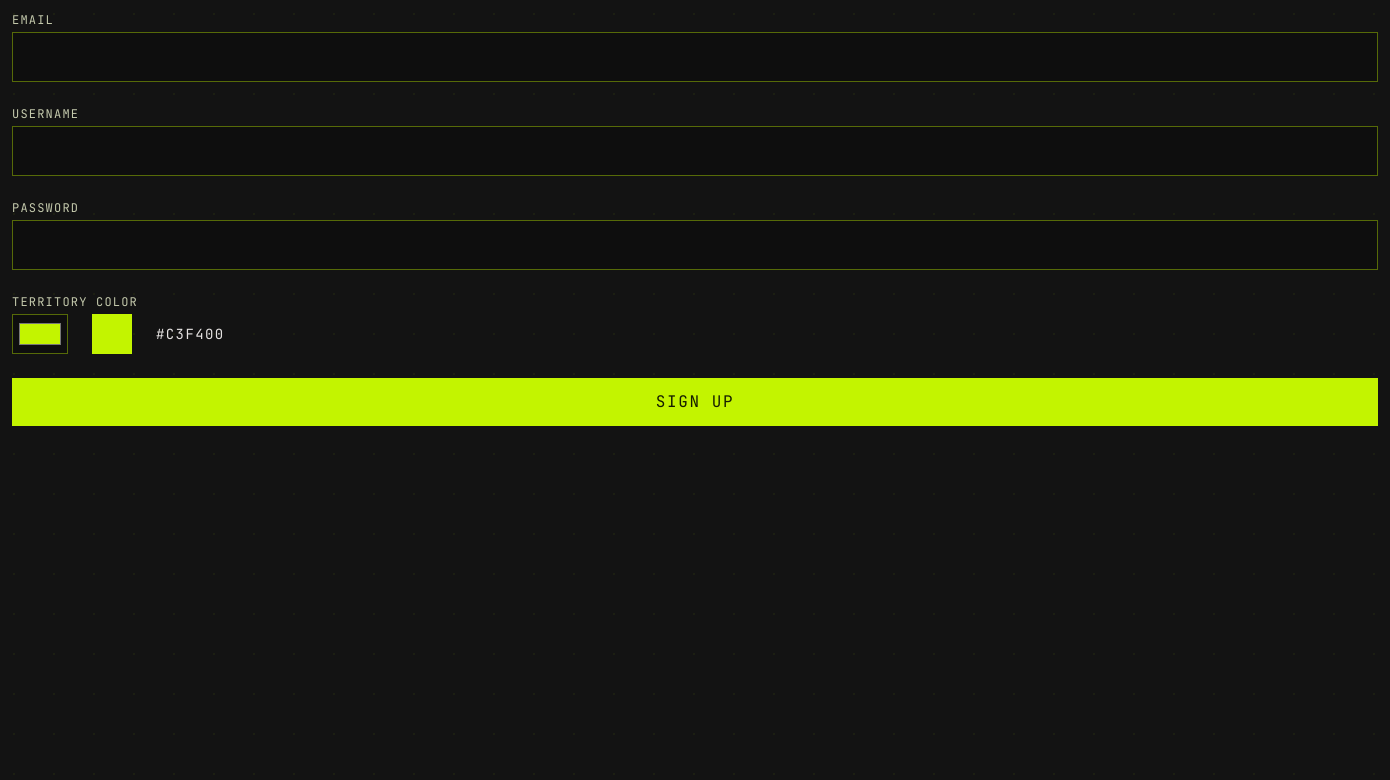
Test: <SignUpForm> › surfaces error on signUp rejection
The width and height of the screenshot is (1390, 780).
Type "dup@example.com" into the field labelled "Email".
click(695, 57); type("dup@example.com")  # box [12,32,1378,82]
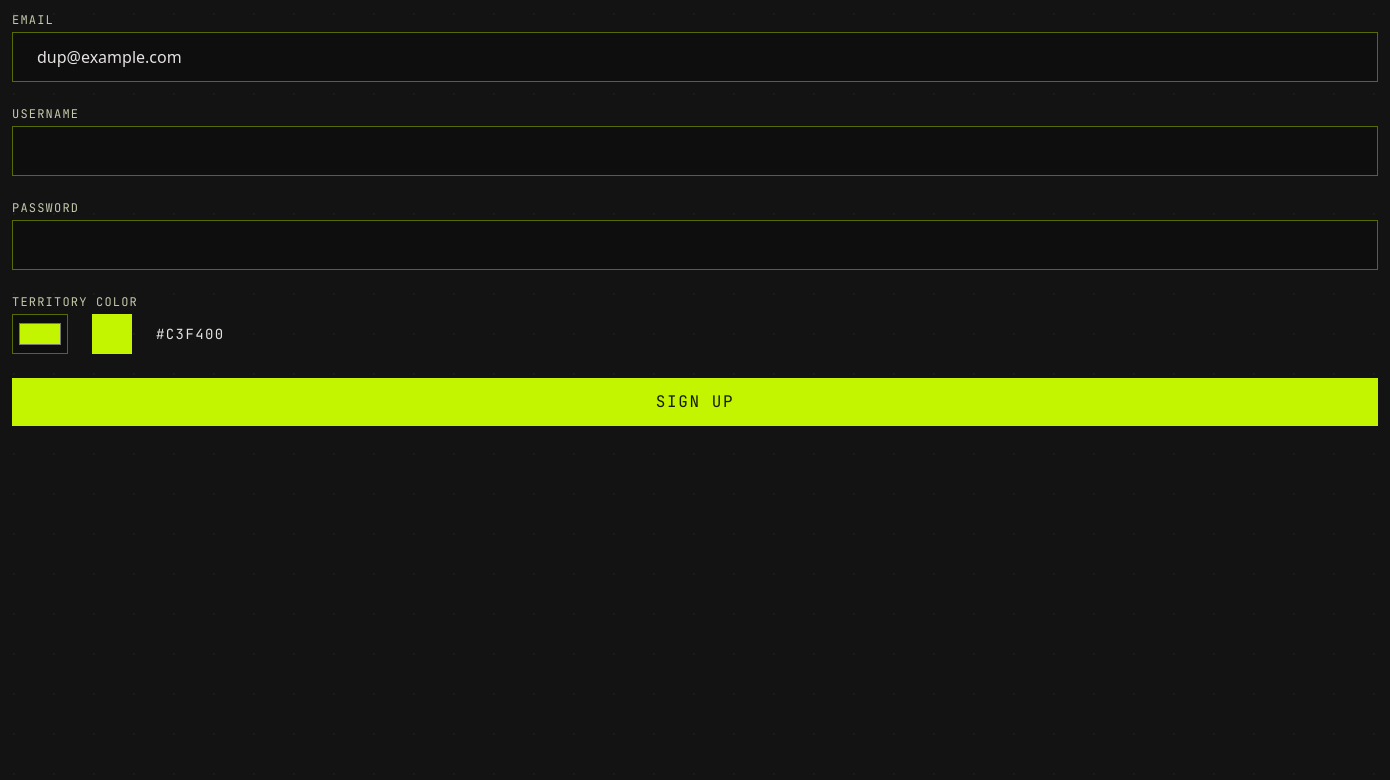
Type "dup_user" into the field labelled "Username".
click(695, 151); type("dup_user")  # box [12,126,1378,176]
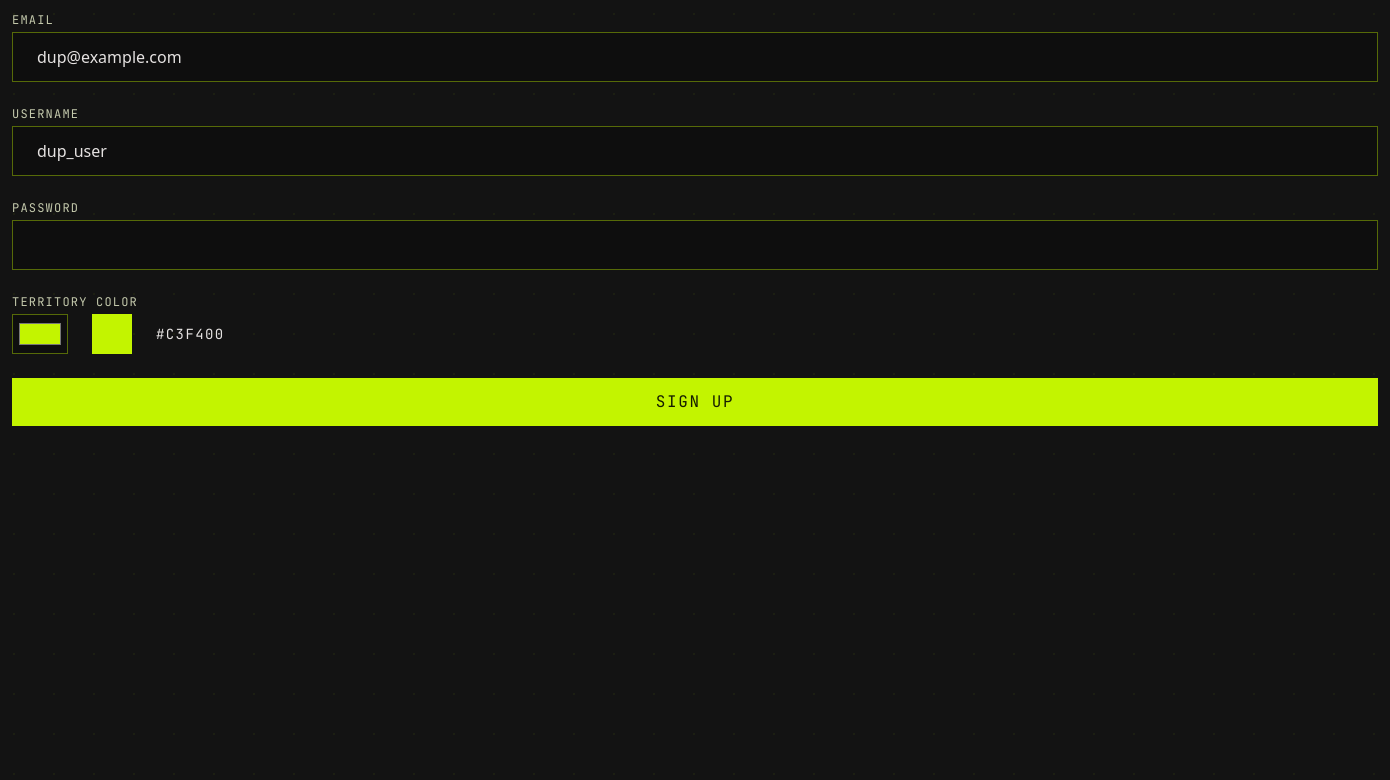
Type "secretsecret" into the password field labelled "Password".
click(695, 245); type("secretsecret")  # box [12,220,1378,270]
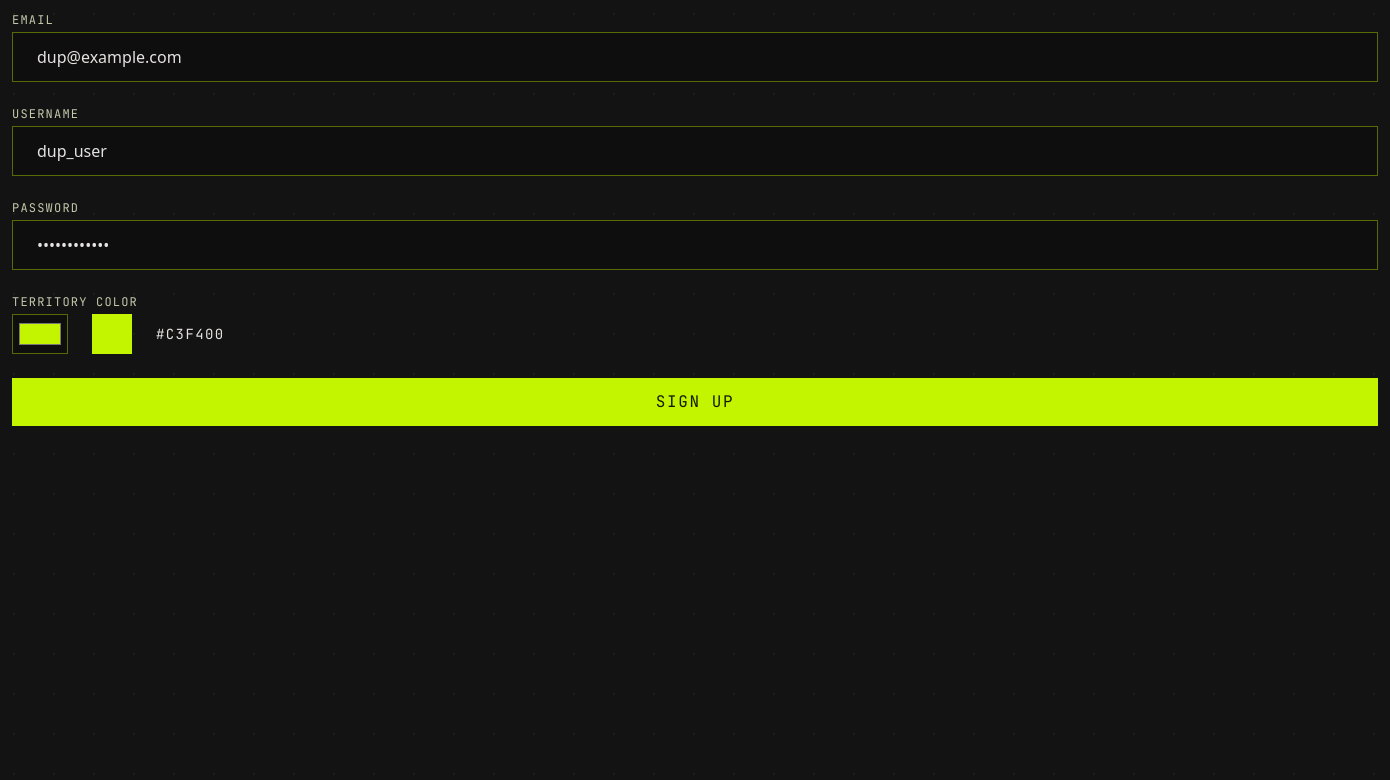
Click the button "Sign up".
click(695, 402)  # box [12,378,1378,426]
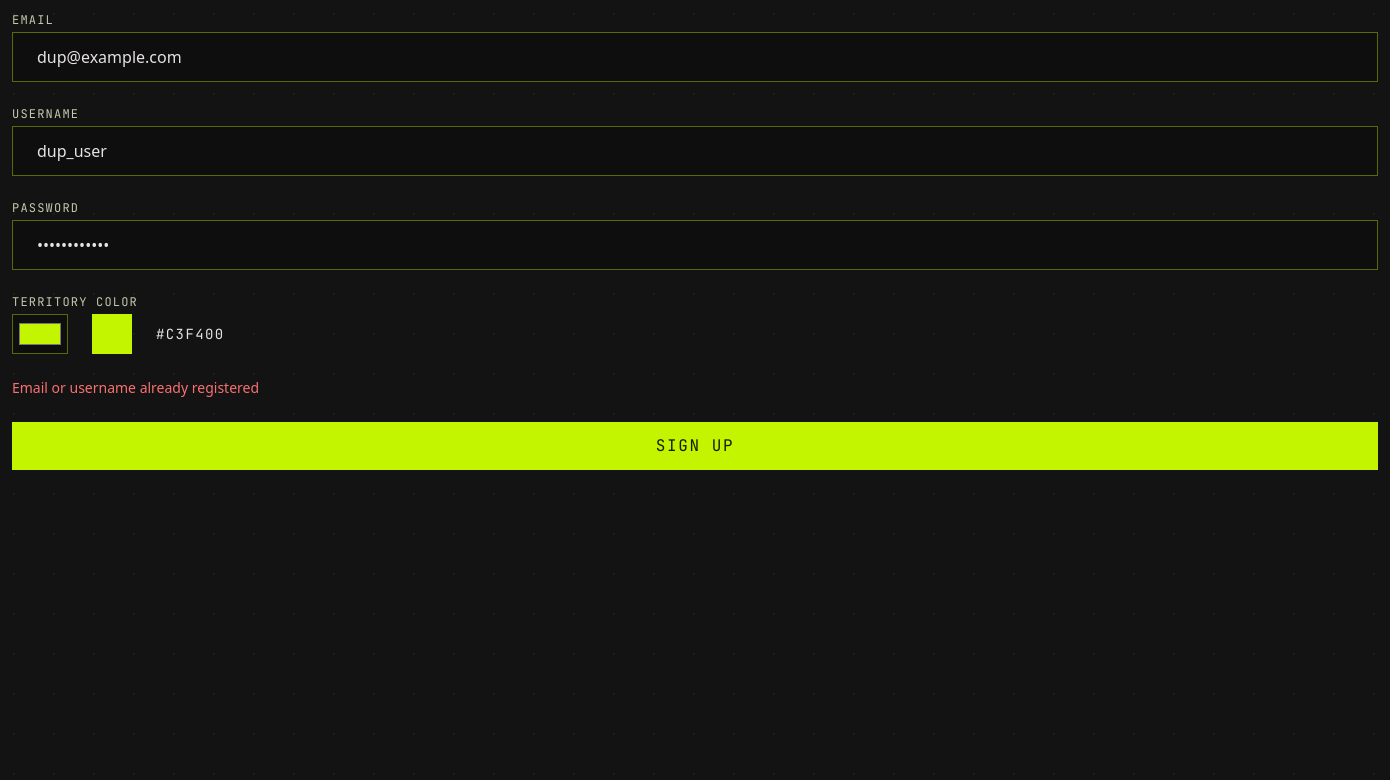
Result: the message shows "already registered" at [12,378,259,397]
